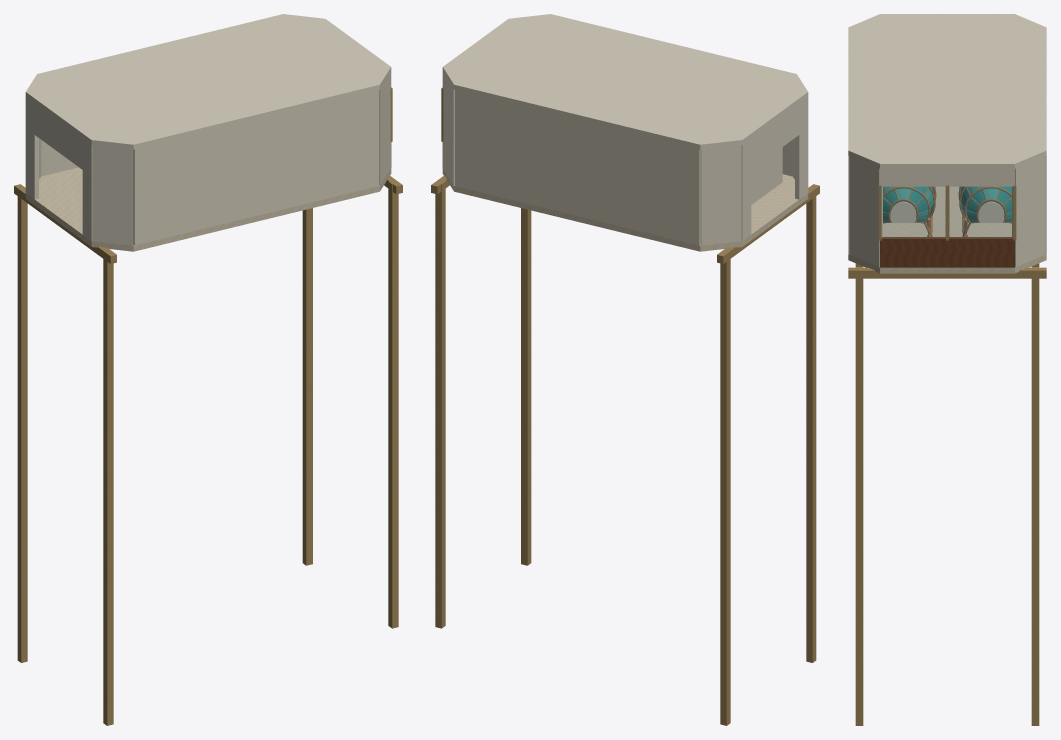
The model's file is D04_STARBOARD_CENTRAL_HOME_986_r001.glb.
The picture shows the model from 3 angles, left to right: view 1: azimuth 30°, elevation 25°; view 2: azimuth 150°, elevation 25°; view 3: azimuth 270°, elevation 25°; orthographic projection. The views are drawn at different scales.
Visible parts, largest first — view 1: SC986_D04H976_Roof, SC986_D04H976_Shell_7, SC986_D04H976_Pier_3, SC986_D04H976_Pier_4, SC986_D04H976_Pier_1, SC986_D04H976_Floor, SC986_D04H976_Shell_6, SC986_D04H976_Pier_2, SC986_D04H976_EntryHeader, SC986_D04H976_EntryWall_1, SC986_D04H976_Shell_0, SC986_D04H976_EntryWall_0 (+2 smaller); view 2: SC986_D04H976_Roof, SC986_D04H976_Shell_3, SC986_D04H976_Pier_3, SC986_D04H976_Pier_4, SC986_D04H976_Pier_2, SC986_D04H976_Shell_4, SC986_D04H976_Pier_1, SC986_D04H976_Floor, SC986_D04H976_EntryHeader, SC986_D04H976_EntryWall_0, SC986_D04H976_Shell_2, SC986_D04H976_BathDogleg (+2 smaller); view 3: SC986_D04H976_Roof, SC986_D04H976_GardenGlass, SC986_D04H976_GardenDado, SC986_D04H976_Pier_1, SC986_D04H976_Pier_2, SC986_D04H976_Floor, SC986_D04H976_Shell_0, SC986_D04H976_Shell_2, SC986_D04H976_GardenHead, SC986_D04H976_Long_-58.650000000000006, SC986_ReservedCocoon_1__Rear ivory acoustic diffuser, SC986_ReservedCocoon_2__Rear ivory acoustic diffuser.
Boxes of the visible parts, x1=… form: SC986_D04H976_Roof: x1=25, y1=14, x2=391, y2=149; SC986_D04H976_Shell_7: x1=133, y1=90, x2=378, y2=245; SC986_D04H976_Pier_3: x1=103, y1=249, x2=113, y2=725; SC986_D04H976_Pier_4: x1=17, y1=187, x2=27, y2=662; SC986_D04H976_Pier_1: x1=388, y1=180, x2=398, y2=628; SC986_D04H976_Floor: x1=25, y1=167, x2=391, y2=251; SC986_D04H976_Shell_6: x1=92, y1=145, x2=133, y2=245; SC986_D04H976_Pier_2: x1=302, y1=208, x2=312, y2=565; SC986_D04H976_EntryHeader: x1=34, y1=103, x2=82, y2=169; SC986_D04H976_EntryWall_1: x1=25, y1=97, x2=38, y2=199; SC986_D04H976_Shell_0: x1=379, y1=72, x2=390, y2=185; SC986_D04H976_EntryWall_0: x1=82, y1=139, x2=92, y2=240; SC986_D04H976_Roof: x1=442, y1=14, x2=808, y2=149; SC986_D04H976_Shell_3: x1=455, y1=90, x2=700, y2=245; SC986_D04H976_Pier_3: x1=806, y1=186, x2=816, y2=662; SC986_D04H976_Pier_4: x1=720, y1=250, x2=730, y2=725; SC986_D04H976_Pier_2: x1=435, y1=180, x2=445, y2=628; SC986_D04H976_Shell_4: x1=700, y1=145, x2=741, y2=245; SC986_D04H976_Pier_1: x1=521, y1=208, x2=531, y2=565; SC986_D04H976_Floor: x1=442, y1=168, x2=808, y2=251; SC986_D04H976_EntryHeader: x1=751, y1=103, x2=799, y2=169; SC986_D04H976_EntryWall_0: x1=795, y1=97, x2=808, y2=199; SC986_D04H976_Shell_2: x1=443, y1=72, x2=454, y2=185; SC986_D04H976_BathDogleg: x1=751, y1=147, x2=782, y2=204; SC986_D04H976_Roof: x1=848, y1=14, x2=1046, y2=168; SC986_D04H976_GardenGlass: x1=883, y1=187, x2=1012, y2=238; SC986_D04H976_GardenDado: x1=880, y1=237, x2=1014, y2=267; SC986_D04H976_Pier_1: x1=855, y1=267, x2=863, y2=725; SC986_D04H976_Pier_2: x1=1031, y1=267, x2=1039, y2=725; SC986_D04H976_Floor: x1=848, y1=186, x2=1046, y2=273; SC986_D04H976_Shell_0: x1=849, y1=156, x2=882, y2=267; SC986_D04H976_Shell_2: x1=1012, y1=156, x2=1045, y2=267; SC986_D04H976_GardenHead: x1=880, y1=169, x2=1014, y2=186; SC986_D04H976_Long_-58.650000000000006: x1=848, y1=267, x2=1046, y2=278; SC986_ReservedCocoon_1__Rear ivory acoustic diffuser: x1=890, y1=201, x2=916, y2=222; SC986_ReservedCocoon_2__Rear ivory acoustic diffuser: x1=978, y1=201, x2=1004, y2=222.
Size of the model in its own units: 12.92 by 23.78 by 7.2.
45 materials, 21 textured.
